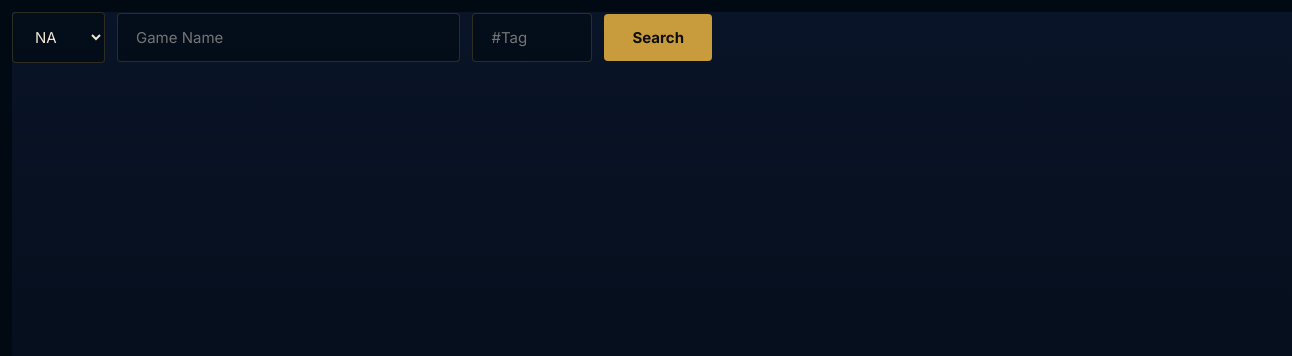
SearchBar › explains a missing name when the search button is clicked
Type "KR1" into the field with placeholder "#Tag" at (532, 38), box [472,13,592,62]
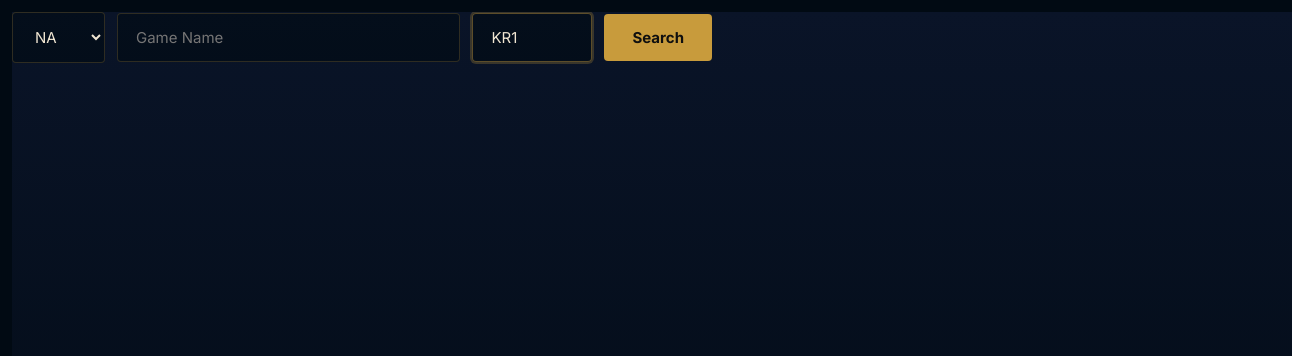
Click the button "Search" at (658, 38), box [604,14,712,61]
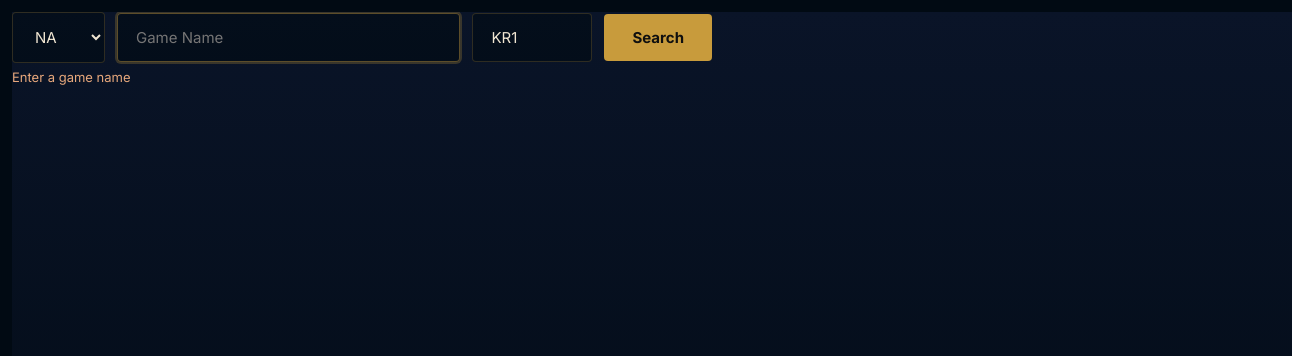
Now the message reads "Enter a game name", box [12,69,131,85]
